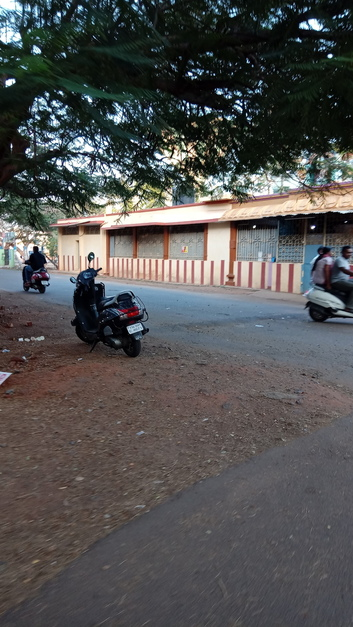bump: (144, 310, 331, 336)
